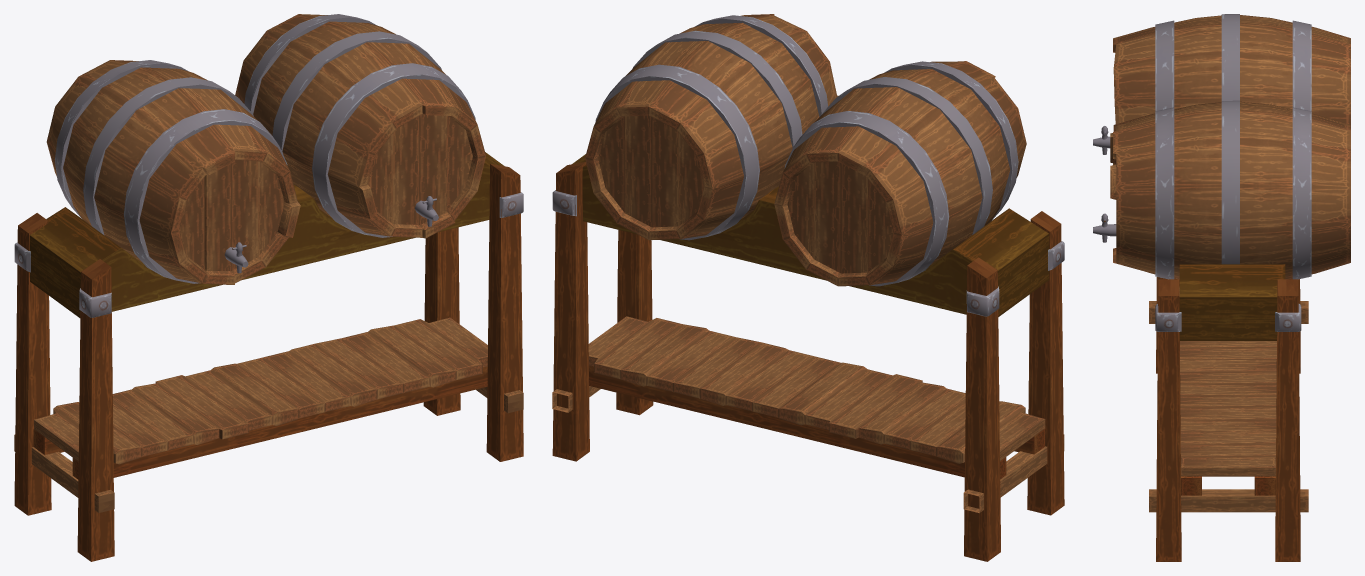
The model's file is Barrel_Holder.gltf.
3 renders of one model, left to right at view 1: azimuth 30°, elevation 25°; view 2: azimuth 150°, elevation 25°; view 3: azimuth 270°, elevation 25°, orthographic. The views are drawn at different scales.
Parts seen in each view (by area): view 1: Barrel_Holder; view 2: Barrel_Holder; view 3: Barrel_Holder.
Part boxes in pixels (x1,y1,x2,y2): Barrel_Holder: [14, 14, 523, 561]; Barrel_Holder: [552, 14, 1064, 561]; Barrel_Holder: [1093, 14, 1350, 561].
Bounding box in the file's own units: 1.36 × 1.26 × 0.741.
2 materials, 2 textured.
